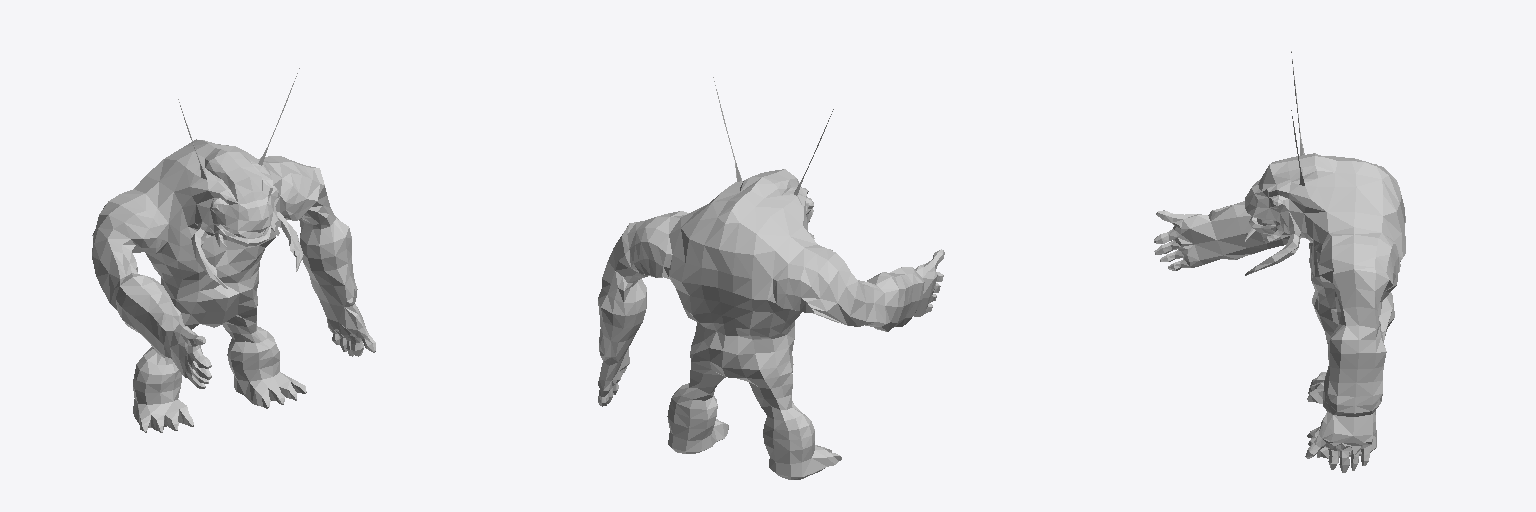
The model's file is Ataque2.obj.
3 renders of one model, left to right at view 1: azimuth 30°, elevation 25°; view 2: azimuth 150°, elevation 25°; view 3: azimuth 270°, elevation 25°, orthographic.
Parts seen in each view (by area): view 1: Umber_Hulk_2:Umber_Hulk_1; view 2: Umber_Hulk_2:Umber_Hulk_1; view 3: Umber_Hulk_2:Umber_Hulk_1.
Part boxes in pixels (x1,y1,x2,y2): Umber_Hulk_2:Umber_Hulk_1: (92, 68, 375, 432); Umber_Hulk_2:Umber_Hulk_1: (598, 77, 944, 479); Umber_Hulk_2:Umber_Hulk_1: (1154, 51, 1405, 472).
Size of the model in its own units: 101 by 124 by 81.28.